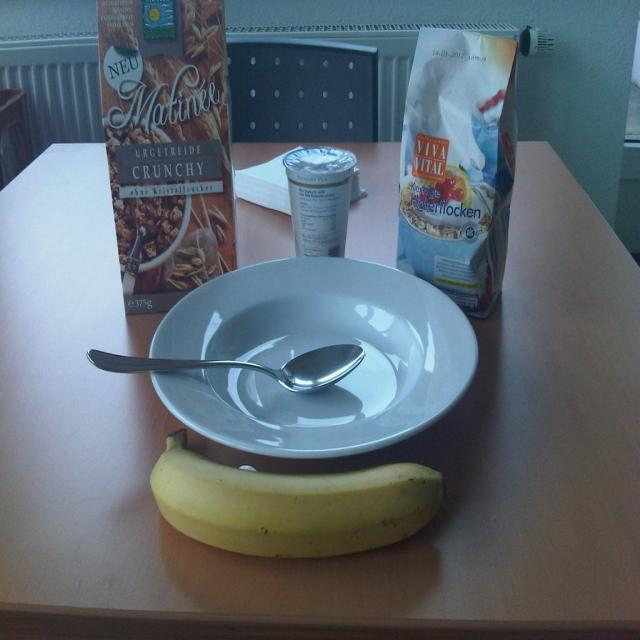ceramic plate: (148, 270, 483, 448)
